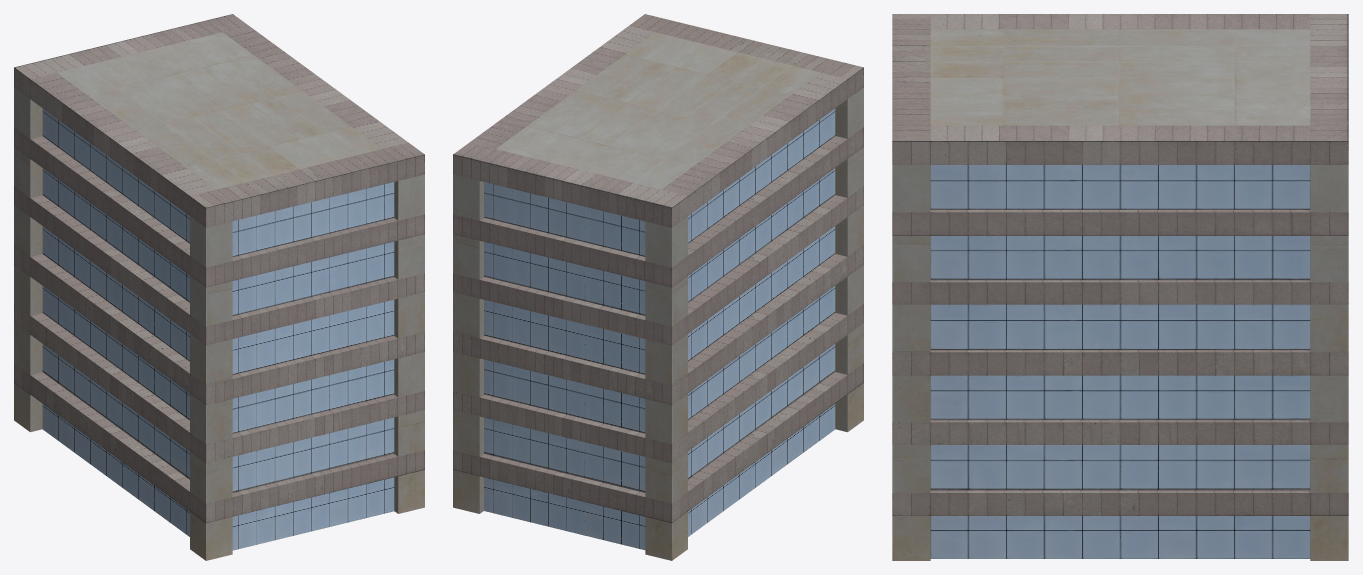
File: house1.FBX
3 renders of one model, left to right at view 1: azimuth 30°, elevation 25°; view 2: azimuth 150°, elevation 25°; view 3: azimuth 270°, elevation 25°, orthographic. The views are drawn at different scales.
Parts seen in each view (by area): view 1: Box001; view 2: Box001; view 3: Box001.
Part boxes in pixels (x1,y1,x2,y2): Box001: (14, 14, 424, 560); Box001: (453, 14, 863, 560); Box001: (892, 14, 1348, 560).
Size of the model in its own units: 51.87 by 80 by 78.8.
